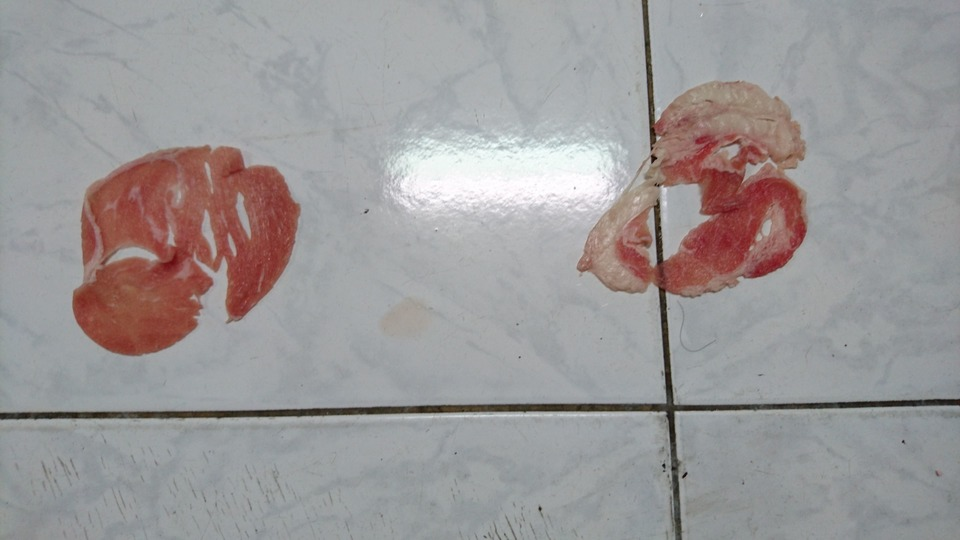restructured meat: (565, 75, 822, 295), (71, 139, 302, 355)
